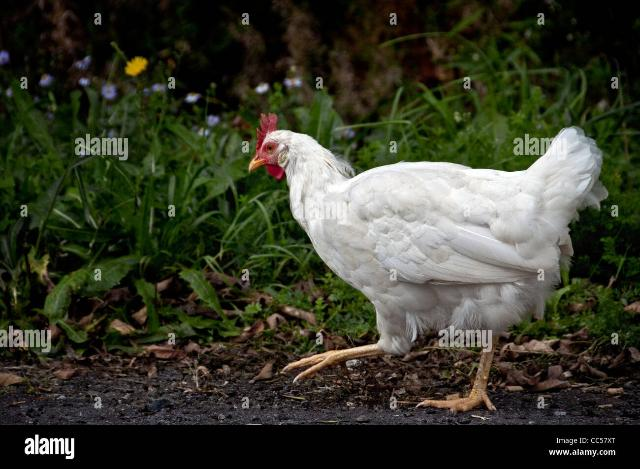Chicken: (248, 113, 607, 410)
